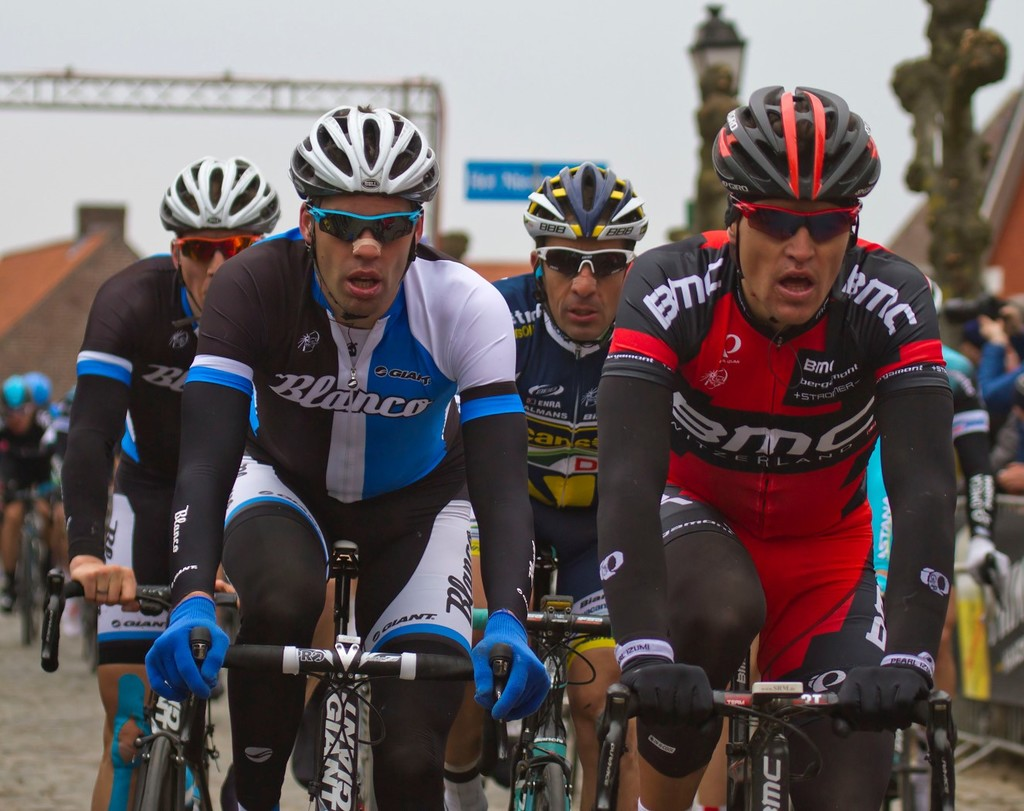Bike: (169, 617, 532, 799), (594, 654, 989, 810)
